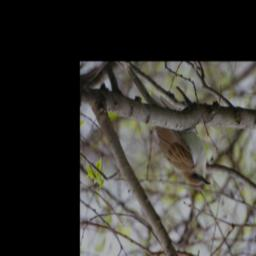Cuckoo: (124, 61, 211, 186)
